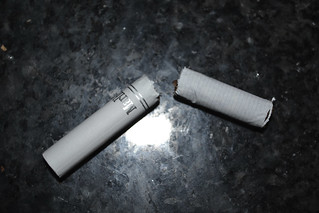cigarette: (38, 71, 163, 181), (172, 64, 275, 130)
